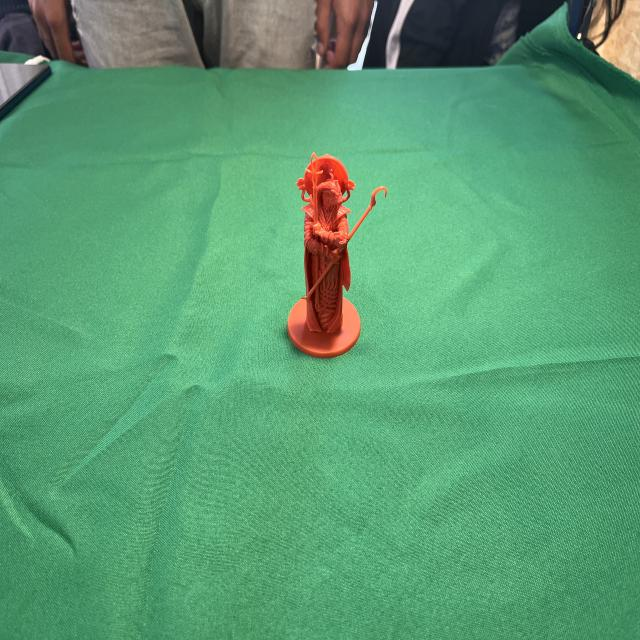amon: (284, 150, 388, 364)
